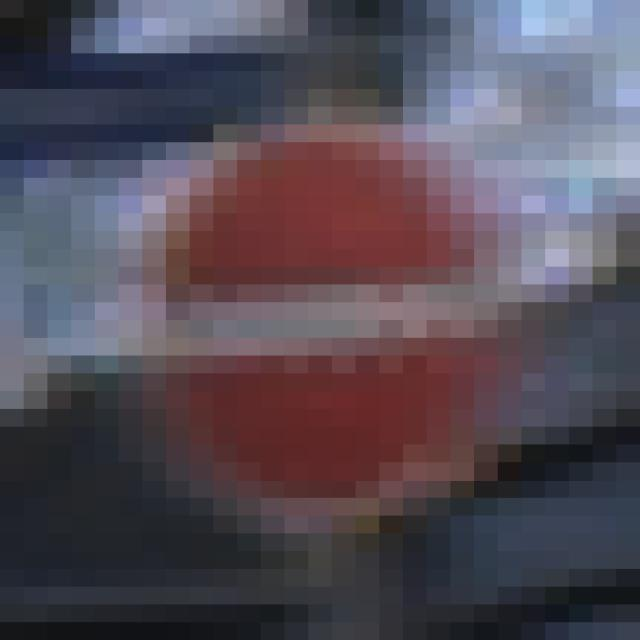No Entry: (120, 90, 523, 552)
